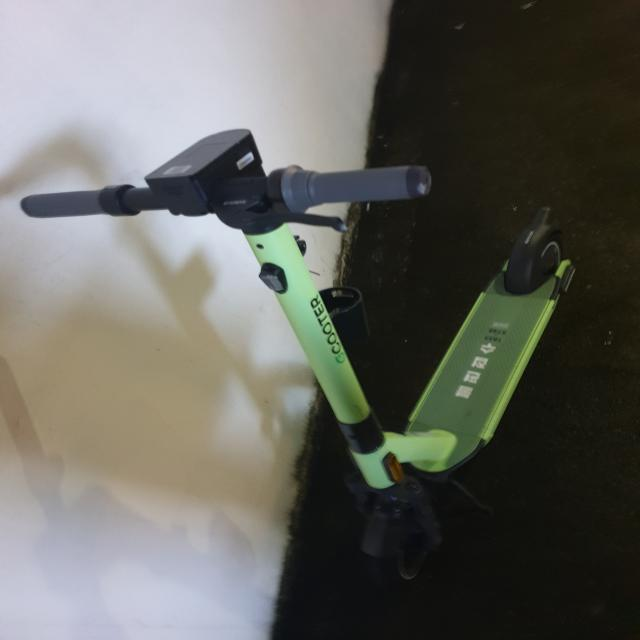bike: (18, 126, 578, 589)
